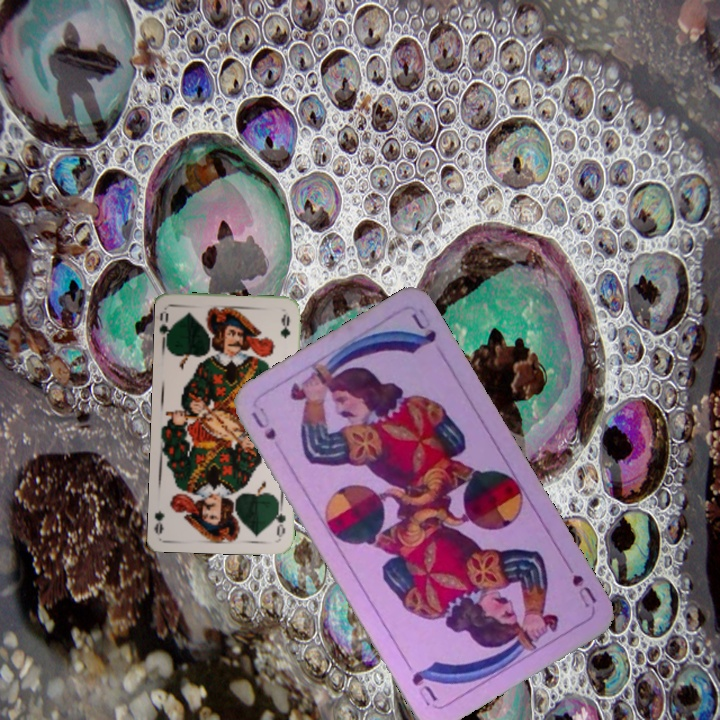GO: (157, 309, 177, 347), (271, 499, 288, 539)
SU: (246, 403, 279, 443), (568, 570, 599, 611)
